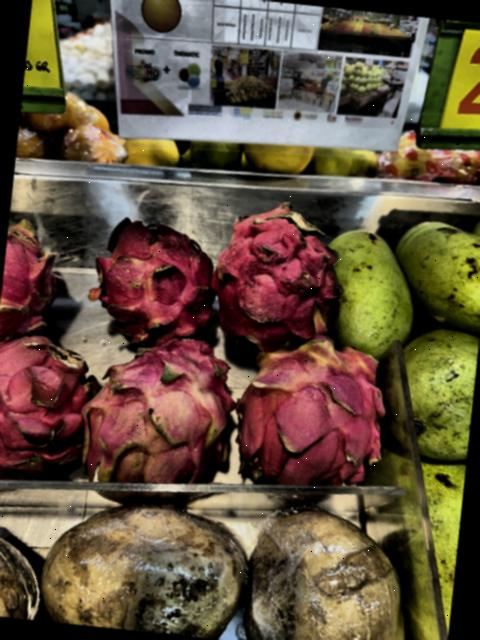buah-naga-belum-matang: (227, 328, 402, 496), (82, 331, 244, 506)
buah-naga-matang: (206, 198, 352, 352), (74, 204, 230, 347), (0, 333, 100, 488), (0, 218, 76, 347)
